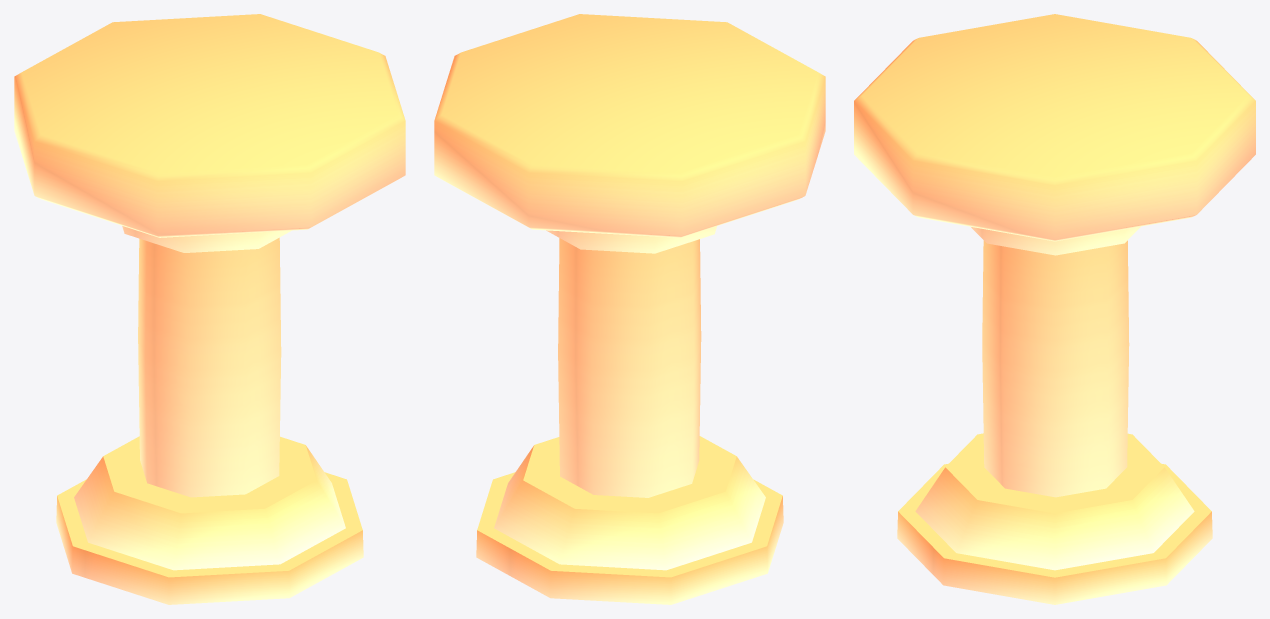
Rendered from wood_grip_110_004.glb.
3 renders of one model, left to right at view 1: azimuth 30°, elevation 25°; view 2: azimuth 150°, elevation 25°; view 3: azimuth 270°, elevation 25°, orthographic.
Visible parts, largest first — view 1: wood_grip_110.004; view 2: wood_grip_110.004; view 3: wood_grip_110.004.
Part boxes in pixels (x1=…): wood_grip_110.004: x1=14, y1=14, x2=405, y2=604; wood_grip_110.004: x1=434, y1=14, x2=825, y2=604; wood_grip_110.004: x1=854, y1=14, x2=1255, y2=604.
Size of the model in its own units: 2.72 by 3.31 by 2.72.
1 material, 1 textured.
